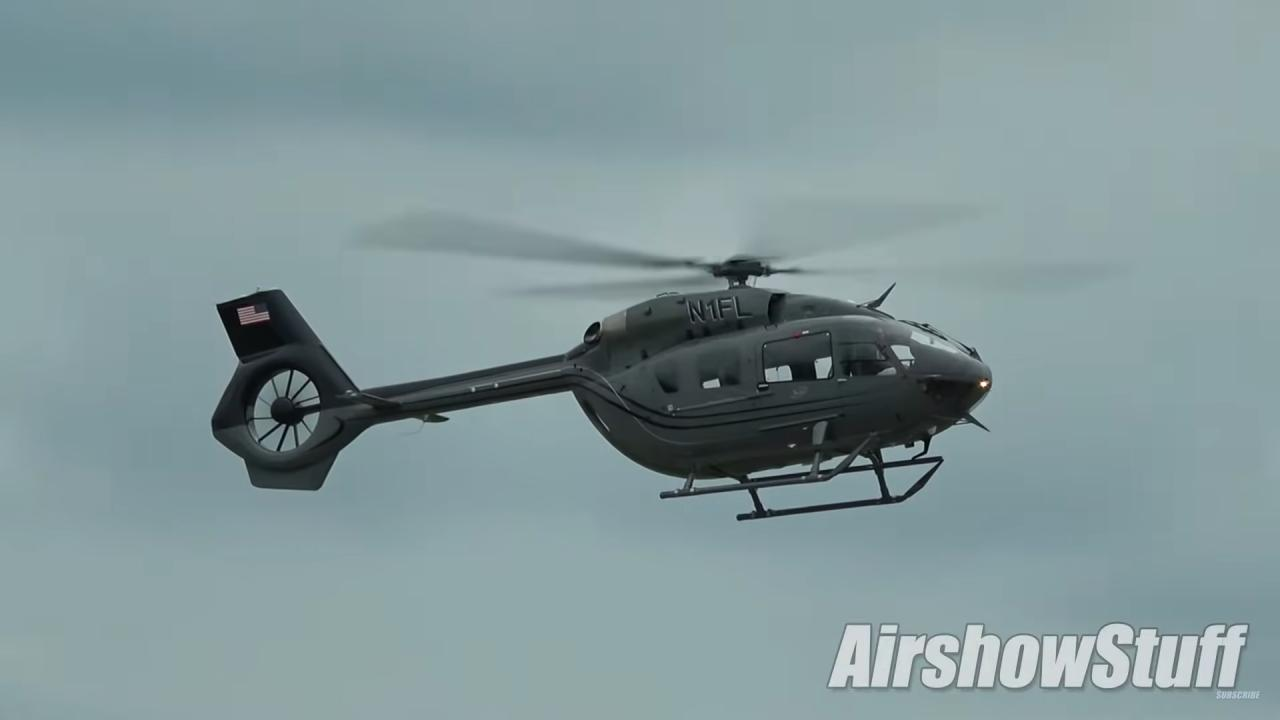Helicopter: (196, 187, 1132, 534)
